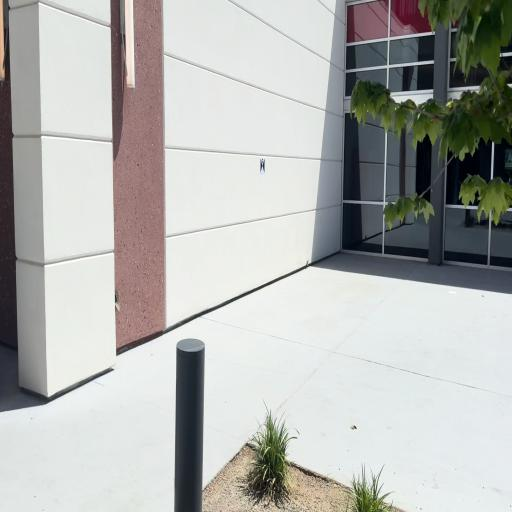target0: (260, 157, 265, 174)
